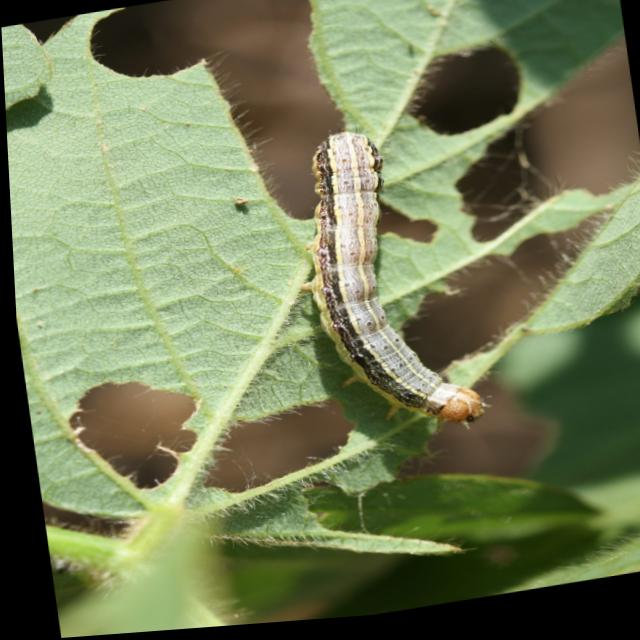Fall-Armyworm: (287, 102, 504, 458)
